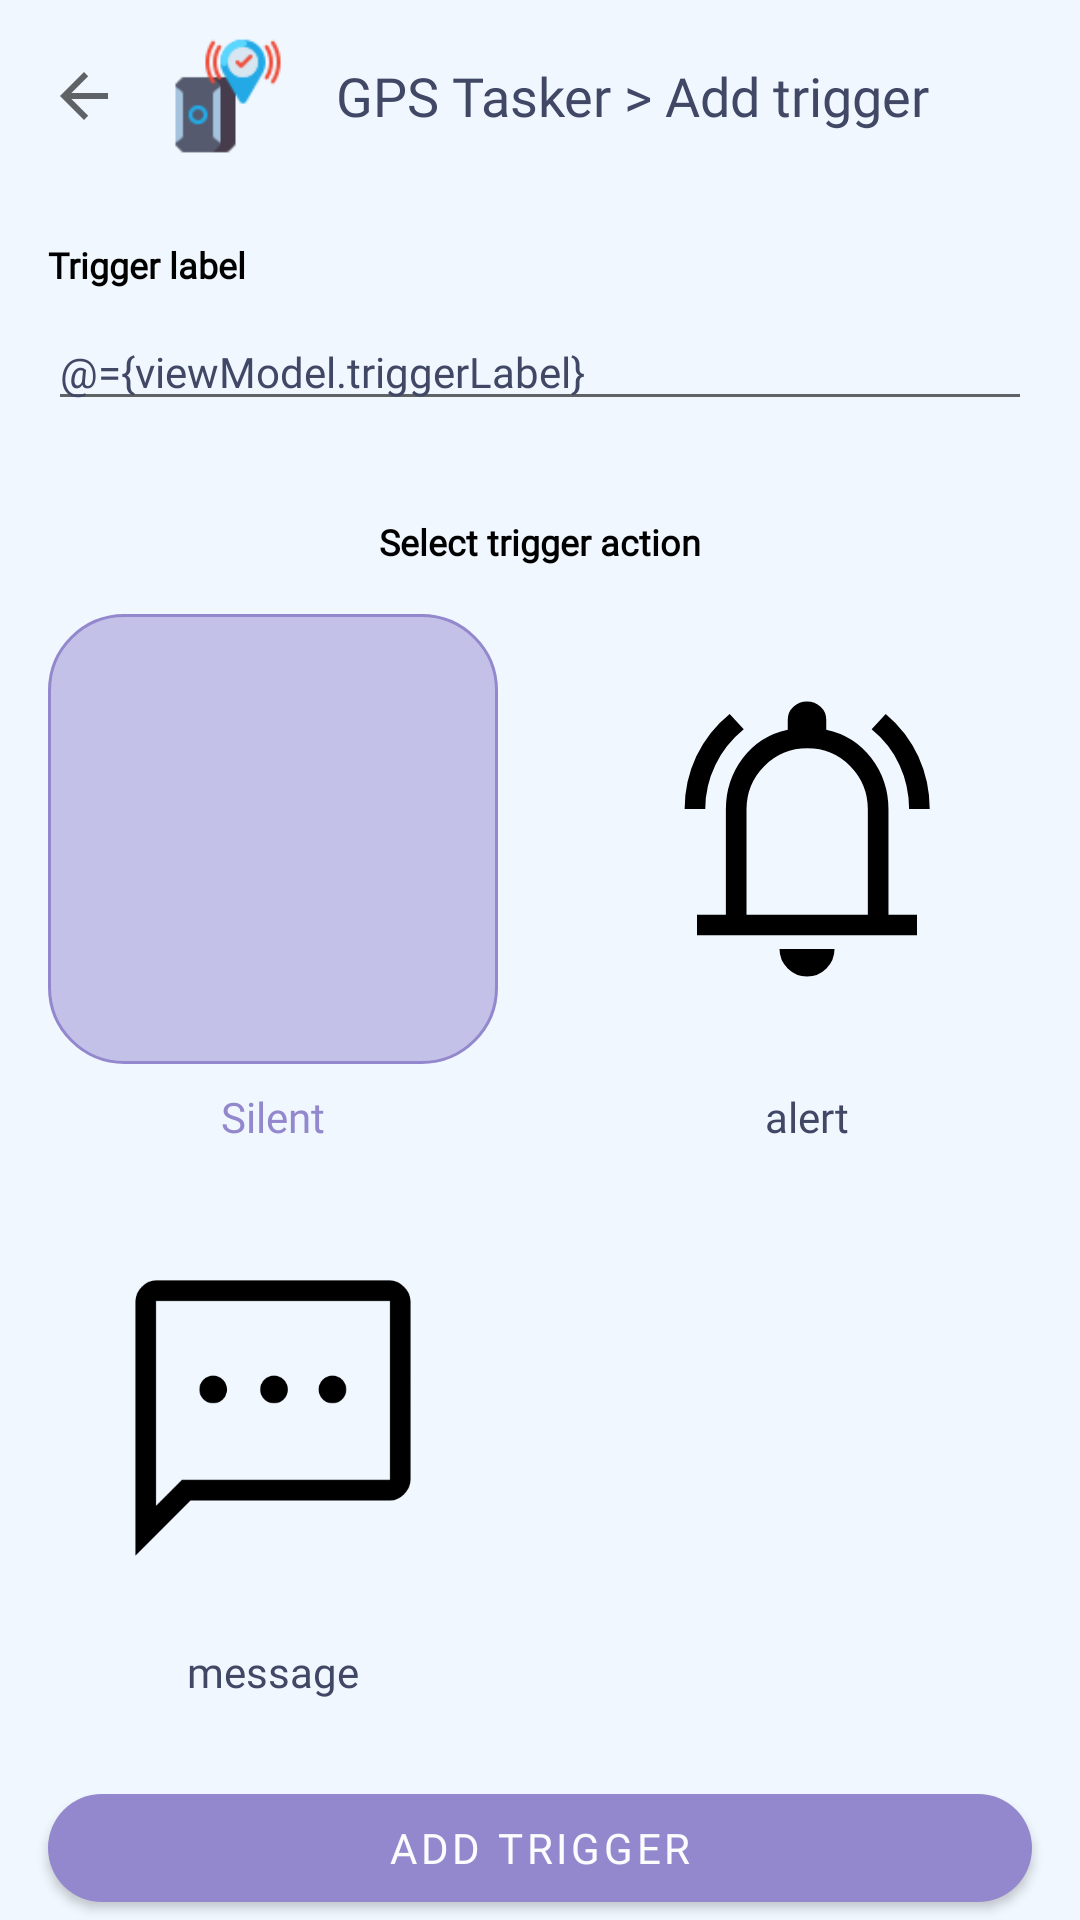

Screen size 1080 x 1920. Icon name, then its center in pixels as [x,y]:
app icon: [228,96]
up button: [84,96]
